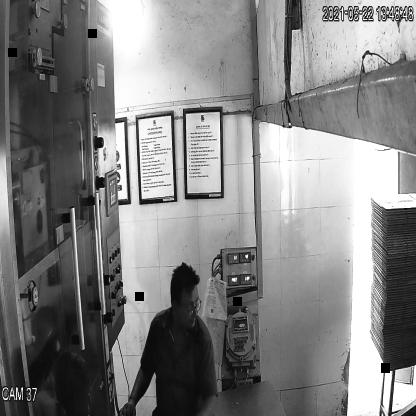goggles: (168, 296, 203, 318)
